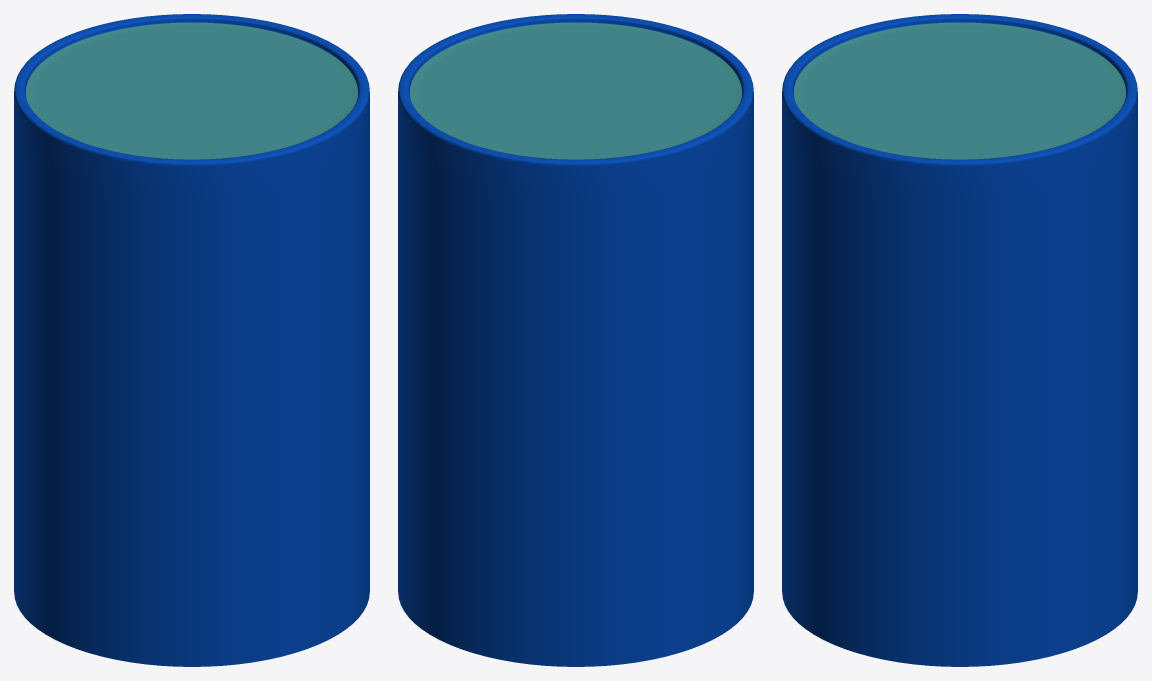
Rendered from stand.fbx.
The picture shows the model from 3 angles, left to right: view 1: azimuth 30°, elevation 25°; view 2: azimuth 150°, elevation 25°; view 3: azimuth 270°, elevation 25°; orthographic projection.
Parts seen in each view (by area): view 1: cylinder, glass; view 2: cylinder, glass; view 3: cylinder, glass.
Boxes of the visible parts, x1=… form: cylinder: x1=14, y1=14, x2=369, y2=666; glass: x1=25, y1=22, x2=358, y2=159; cylinder: x1=398, y1=14, x2=753, y2=666; glass: x1=409, y1=22, x2=742, y2=159; cylinder: x1=782, y1=14, x2=1137, y2=666; glass: x1=793, y1=22, x2=1126, y2=159.
Size of the model in its own units: 6569 by 10261 by 6569.
